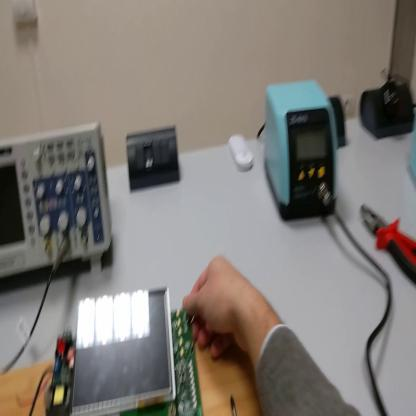hand: (184, 255, 257, 363)
low voltage board: (19, 290, 204, 413)
oscilloscope: (1, 121, 113, 275)
pliers: (359, 203, 416, 281)
screwdriver-: (231, 394, 238, 414)
socket: (359, 78, 415, 140), (329, 98, 347, 148)
welder station: (267, 82, 339, 222)
working area: (1, 346, 260, 416)
